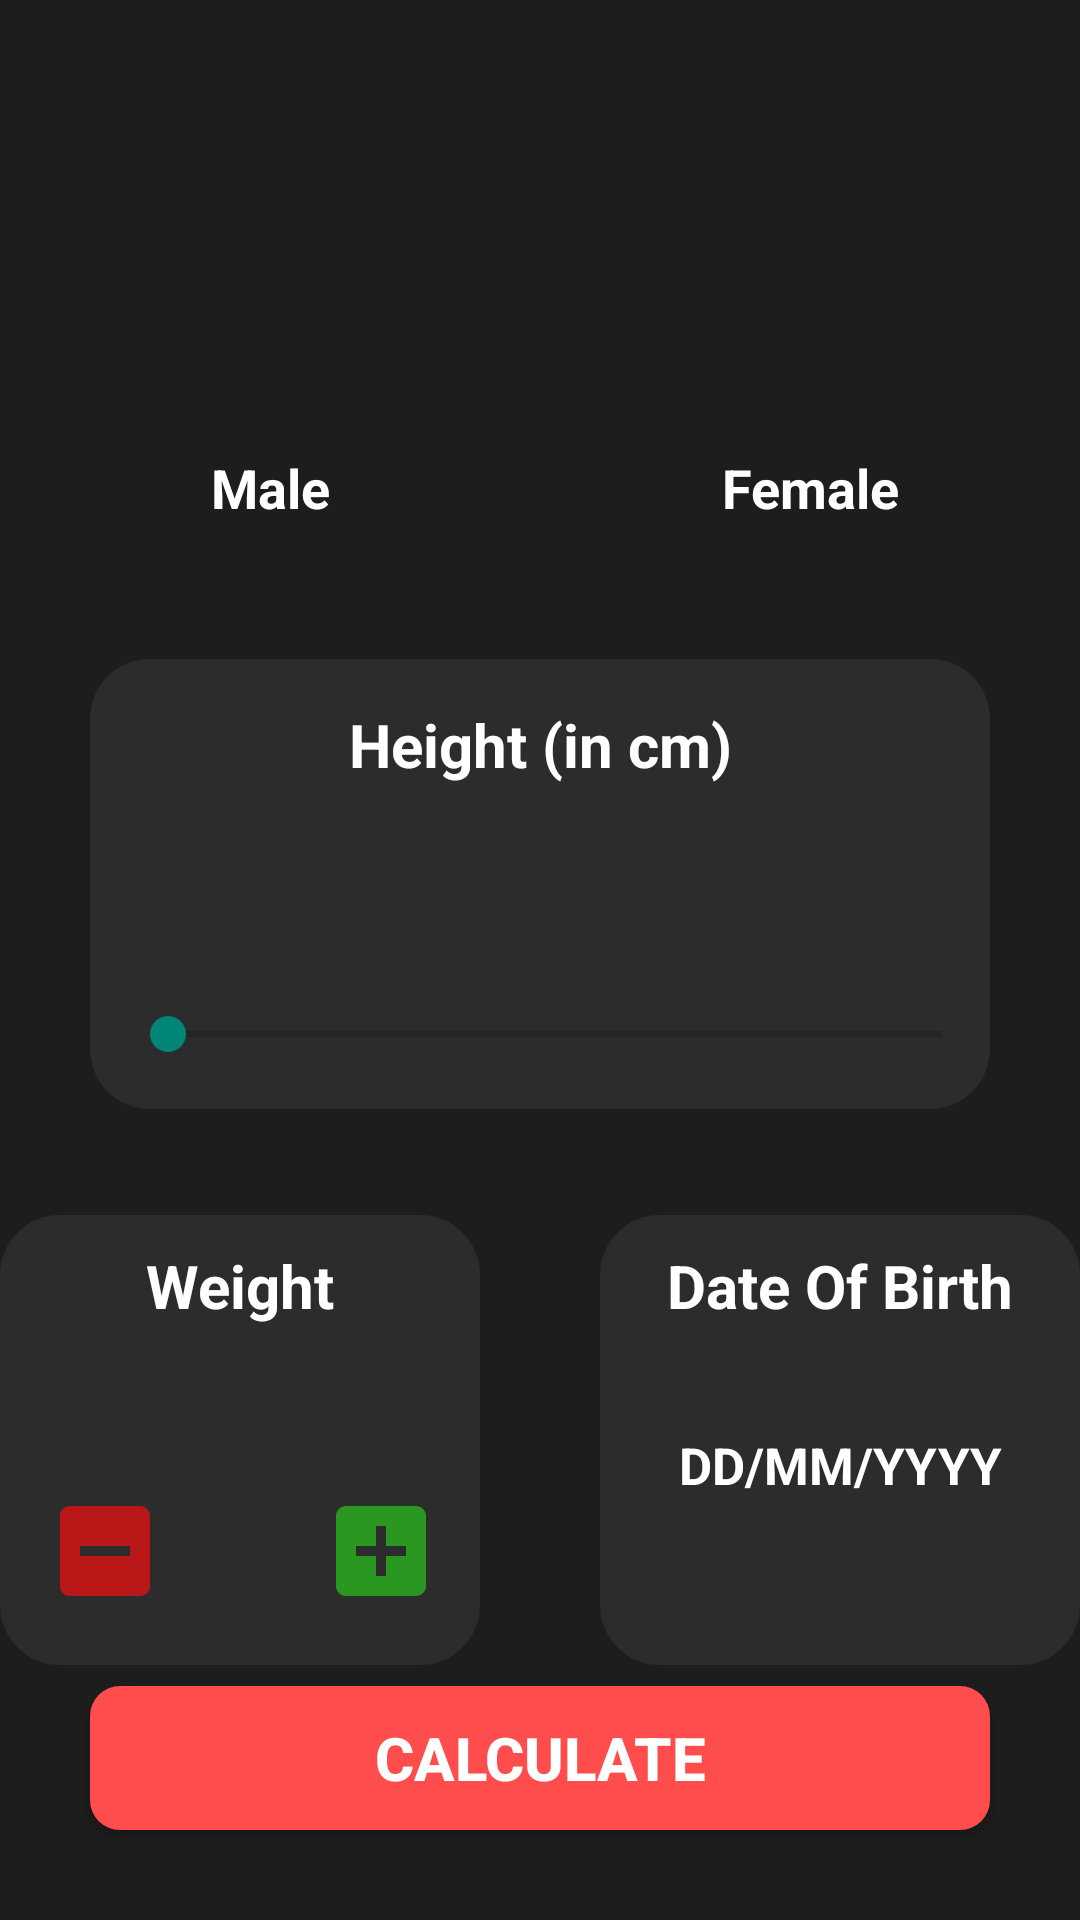

Icons on this 1080px×1920px Android screen, each with the point to tap as (x,y):
decrement: (105,1551)
increment: (381,1551)
